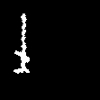double_crochet: (14, 14, 28, 72)
